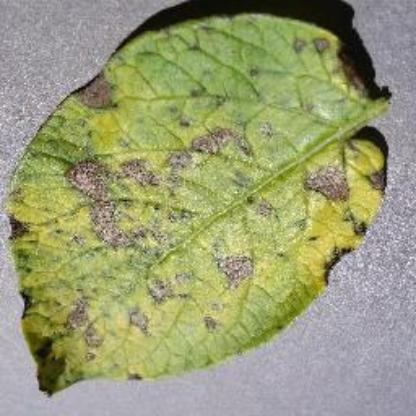Early-Blight: (8, 10, 404, 402)
